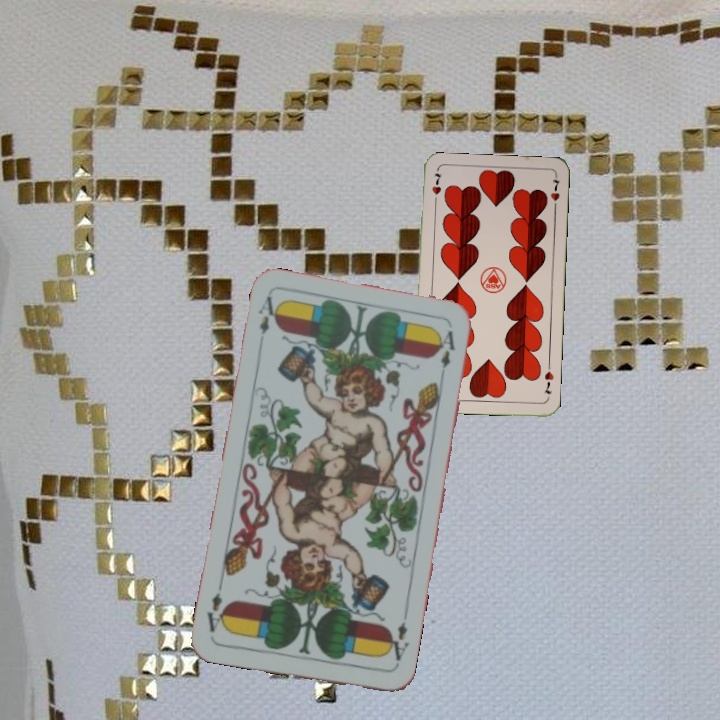EA: (382, 618, 412, 669), (254, 292, 282, 337)
H7: (428, 169, 444, 208), (540, 367, 556, 396)
